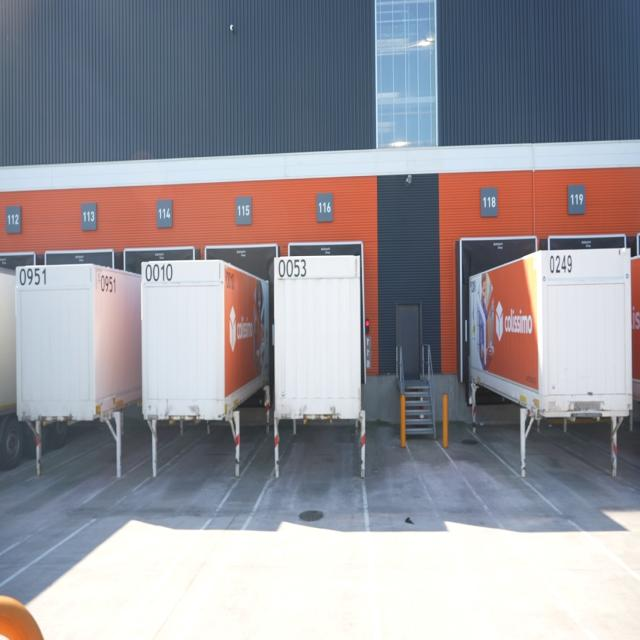Code: (276, 256, 309, 282), (142, 260, 173, 284), (17, 267, 50, 288), (96, 269, 120, 297)
